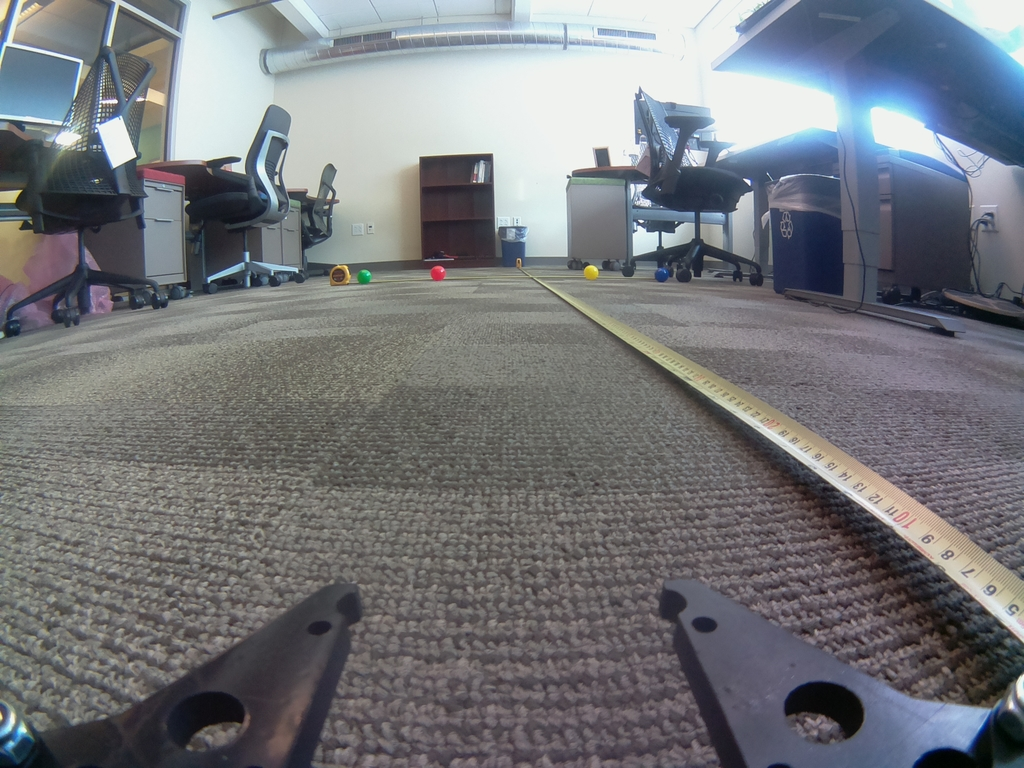ball: (582, 262, 598, 280)
